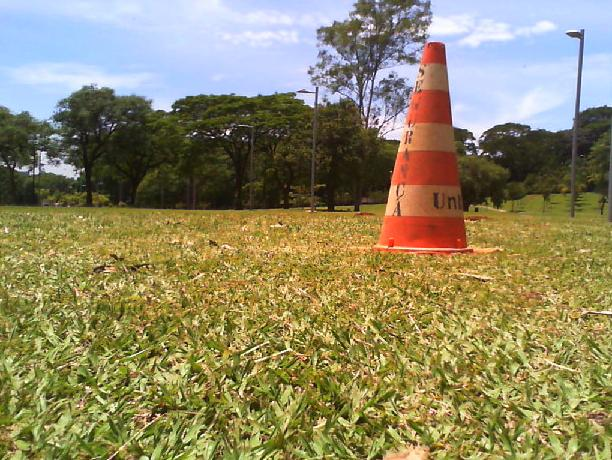0 cone: (355, 42, 499, 255)
